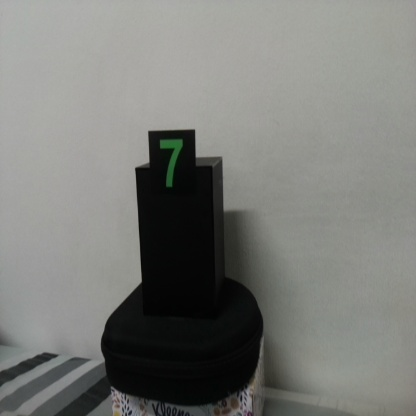id_7: (146, 130, 197, 208)
